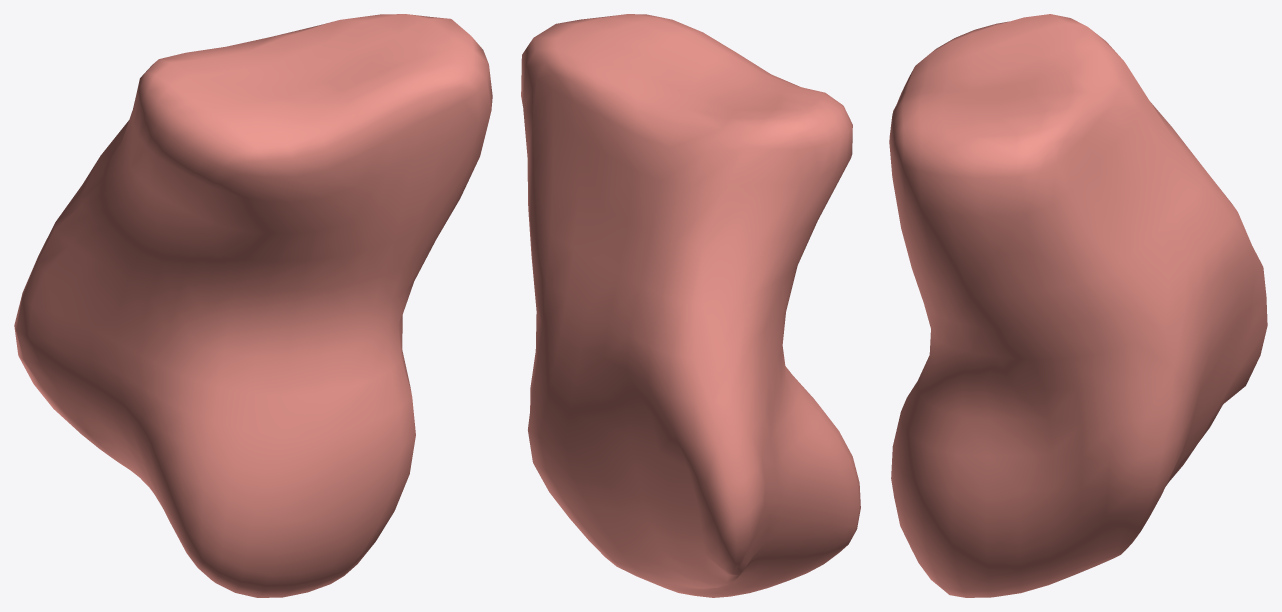
Rendered from foot.fbx.
The picture shows the model from 3 angles, left to right: view 1: azimuth 30°, elevation 25°; view 2: azimuth 150°, elevation 25°; view 3: azimuth 270°, elevation 25°; orthographic projection. The views are drawn at different scales.
Visible parts, largest first — view 1: Beta_Surface.003; view 2: Beta_Surface.003; view 3: Beta_Surface.003.
Part boxes in pixels (x1,y1,x2,y2): Beta_Surface.003: [14, 14, 492, 597]; Beta_Surface.003: [521, 14, 860, 597]; Beta_Surface.003: [889, 14, 1267, 597].
Size of the model in its own units: 1120 by 1634 by 1051.
